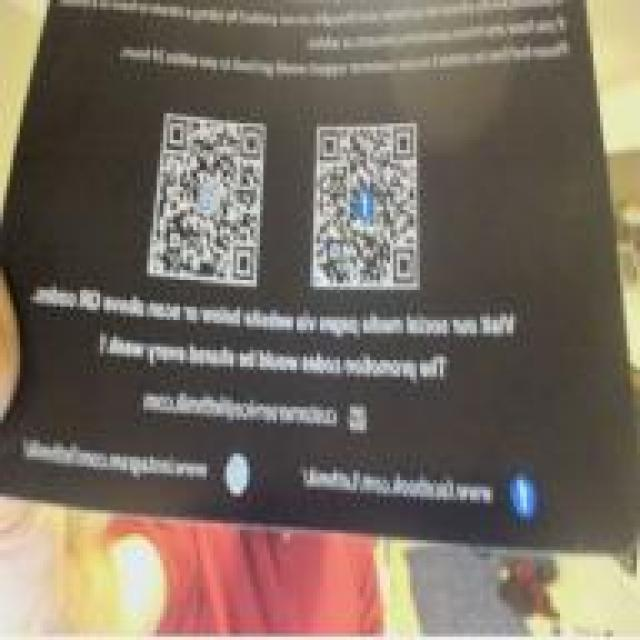qr_code: (148, 117, 264, 282), (316, 128, 415, 286)
